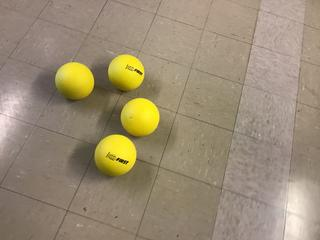power_cell: (92, 132, 139, 176), (116, 95, 161, 137), (53, 61, 98, 102), (105, 53, 149, 92)
